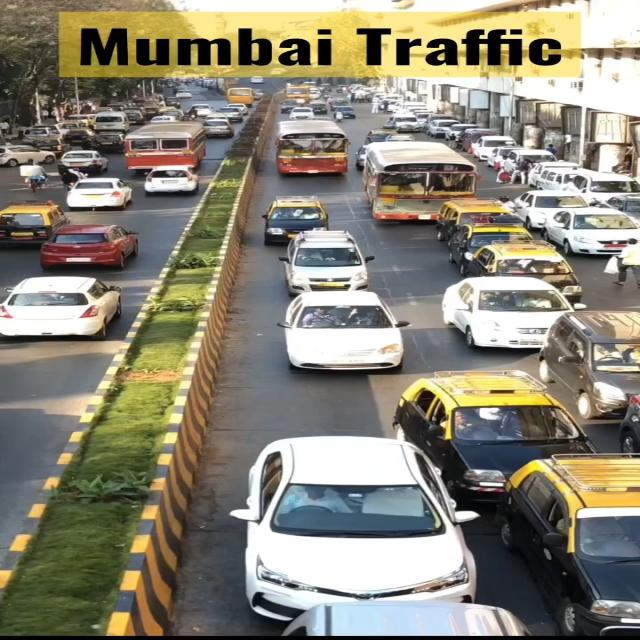Bus: (359, 145, 465, 225), (276, 124, 355, 179)
Car: (216, 432, 481, 600), (280, 295, 419, 379), (442, 279, 550, 354), (39, 226, 134, 268)
Taxi: (258, 200, 334, 247)
